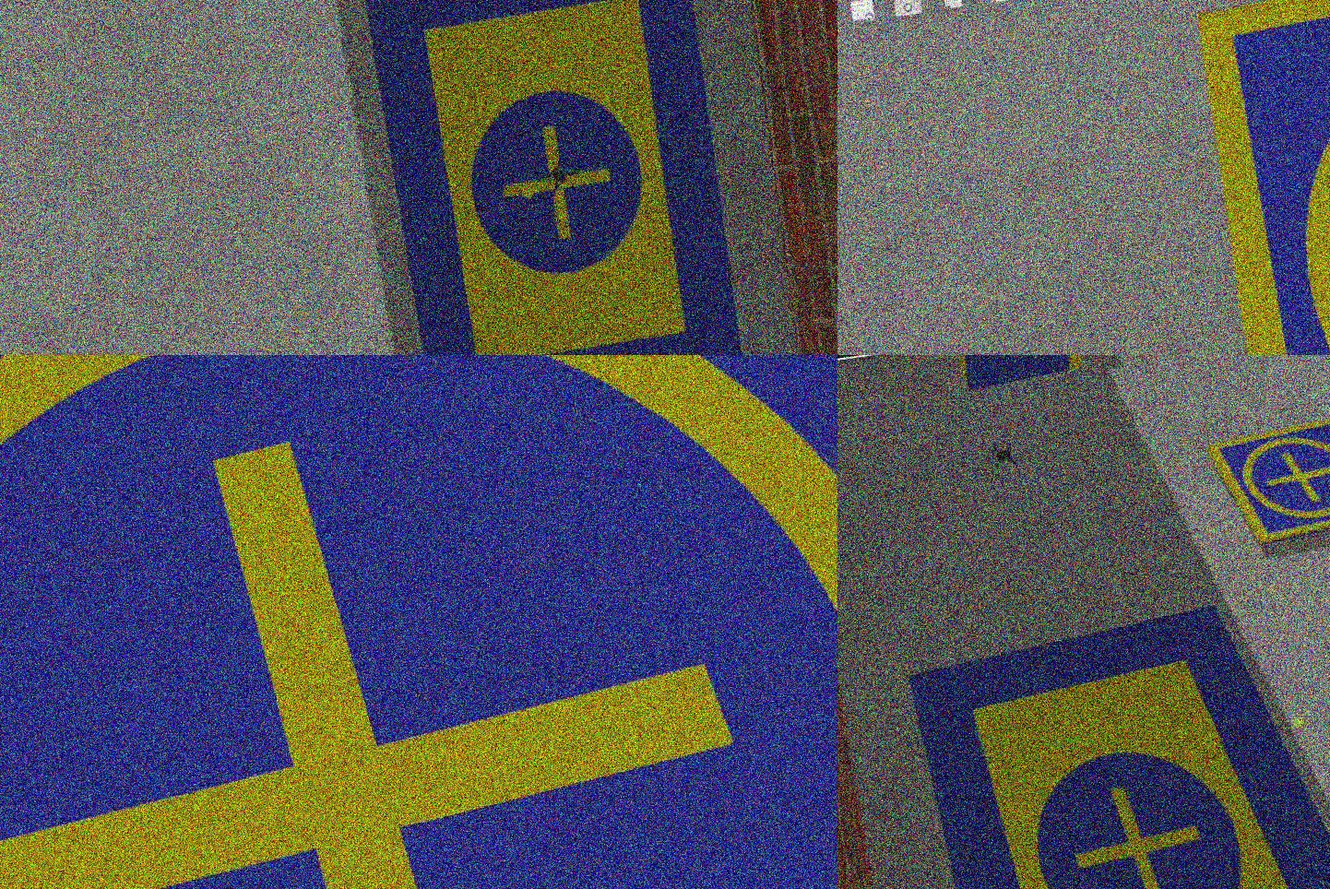large_base: (361, 1, 745, 356), (903, 579, 1330, 889)
small_base: (1, 356, 838, 889), (1196, 1, 1330, 356), (1205, 409, 1330, 553)
